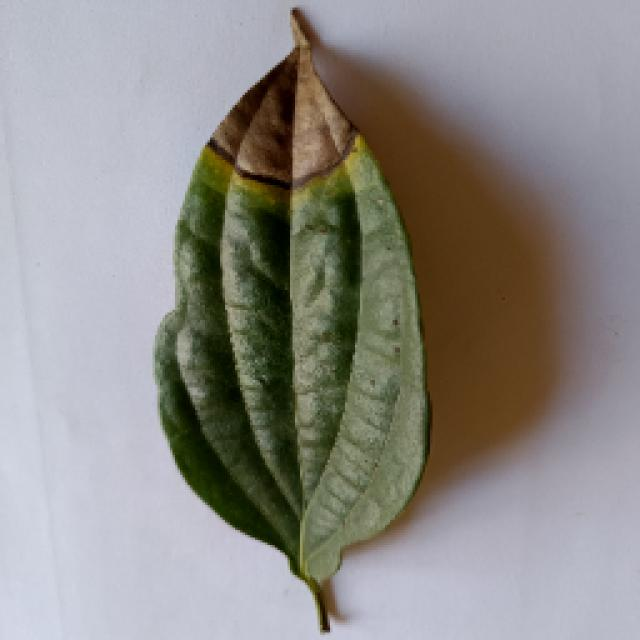footrot: (152, 8, 438, 622)
